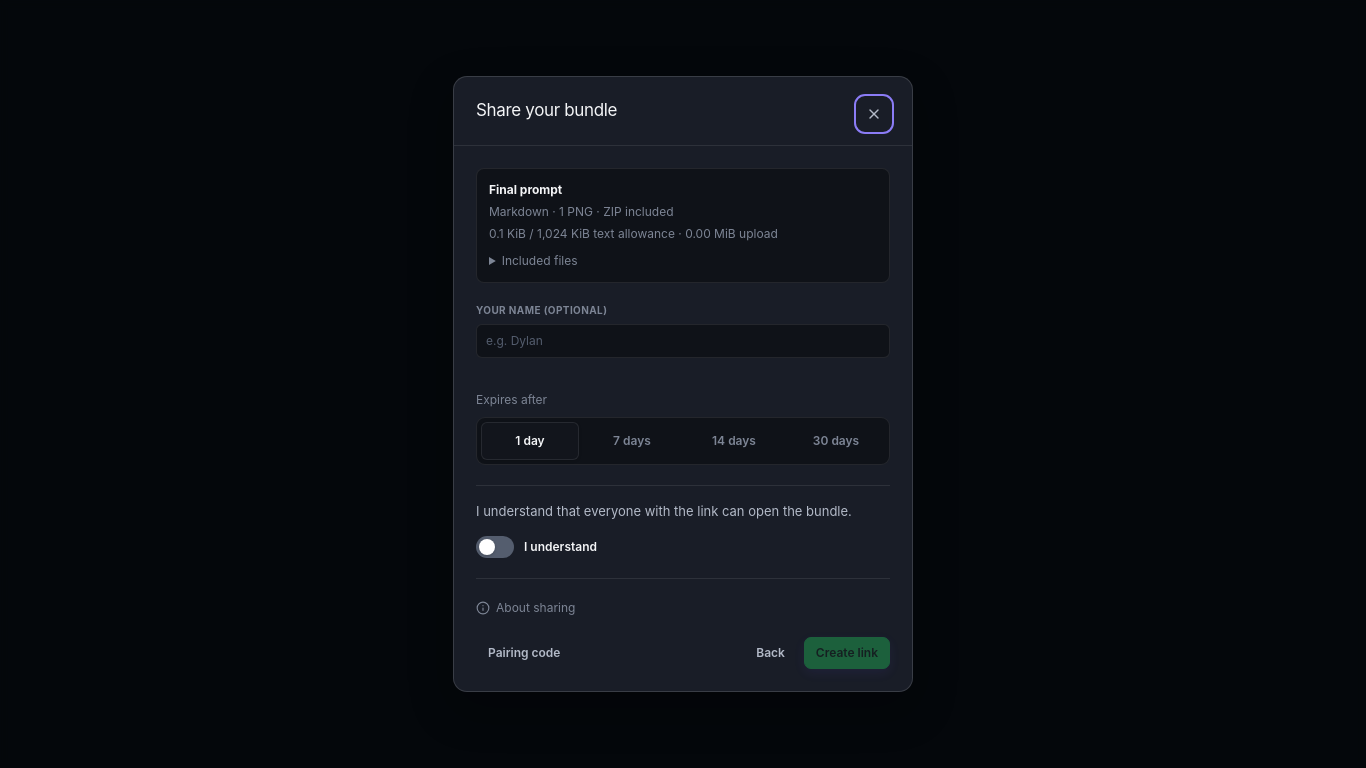
Test: HostedShareDialog › reports a failed name save without uploading, then lets the user retry
Type "Dylan" into the field labelled "Your name (optional)" at (683, 341), box [476,324,890,358]
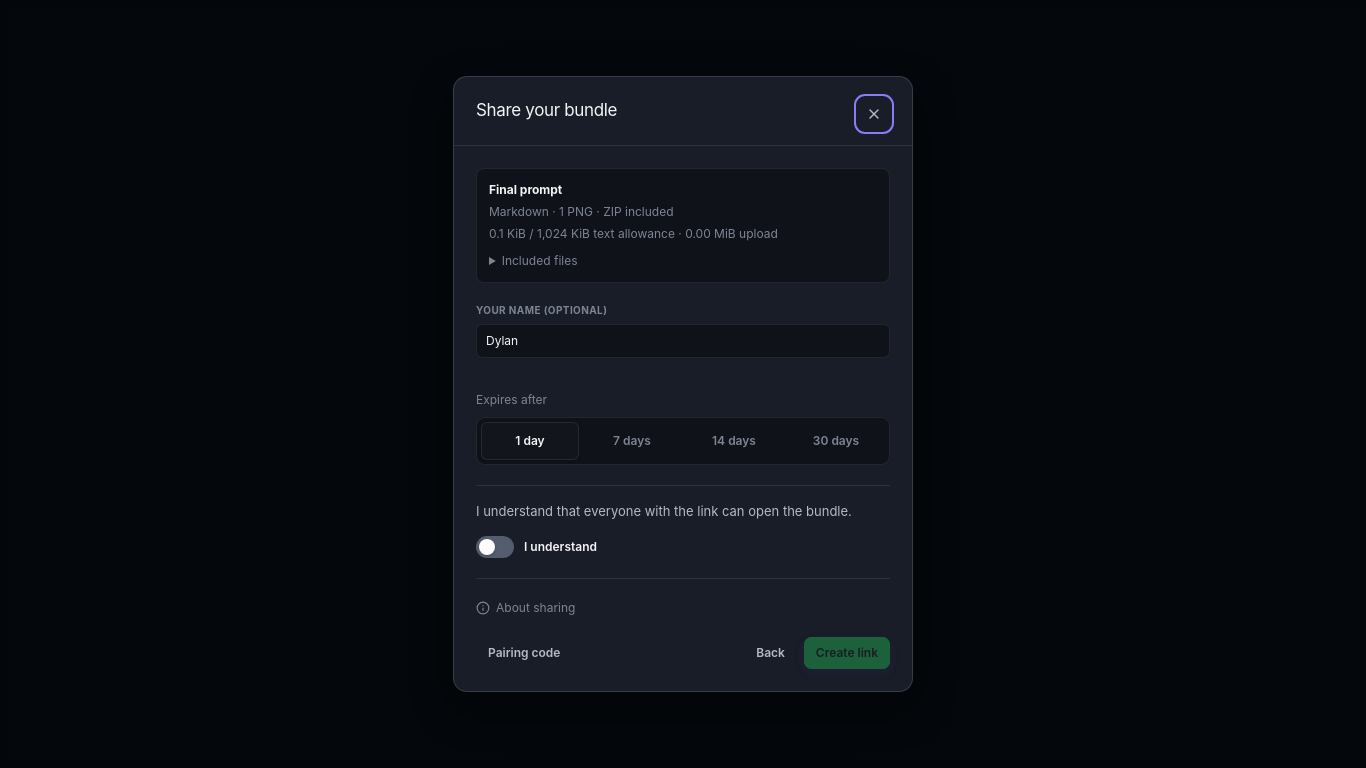
Click the switch labelled "I understand" at (536, 547), box [476,532,597,562]
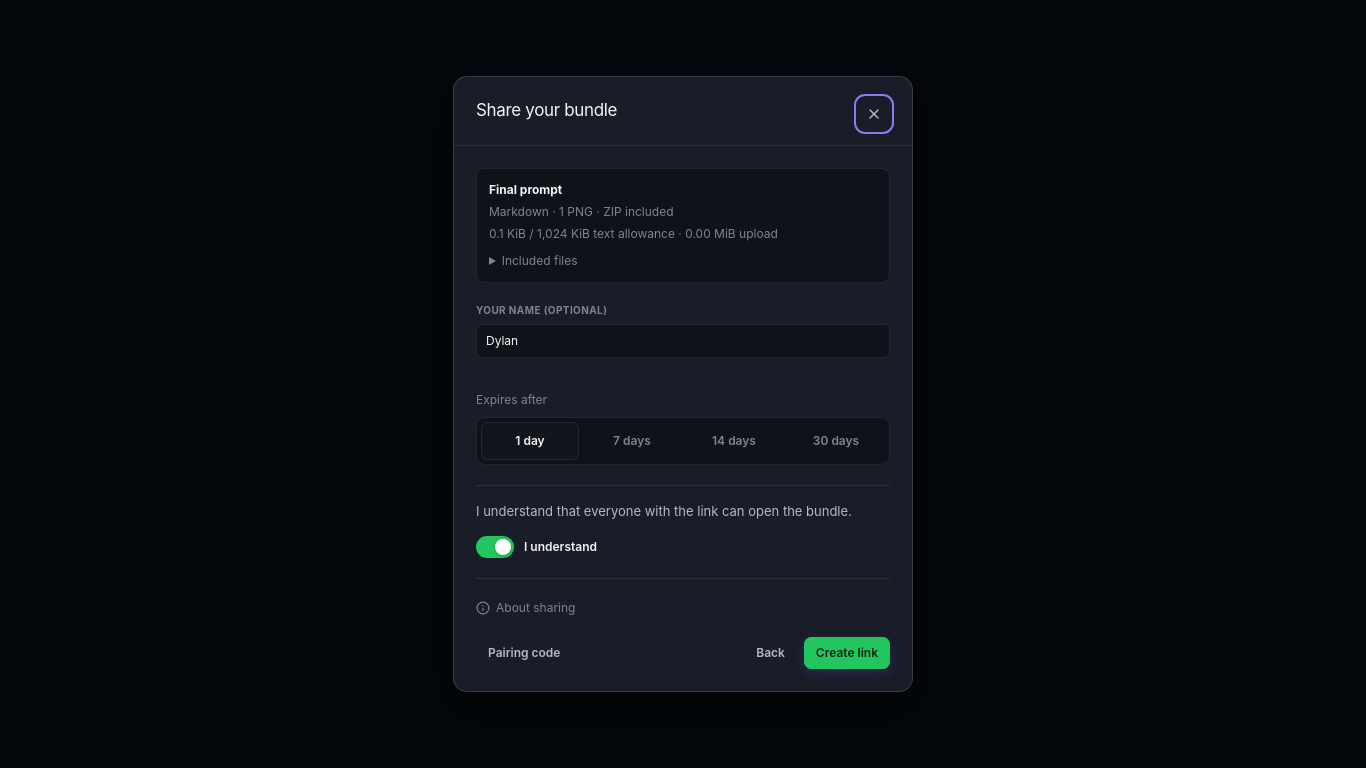
Click the button "Create link" at (847, 653), box [804,637,890,669]
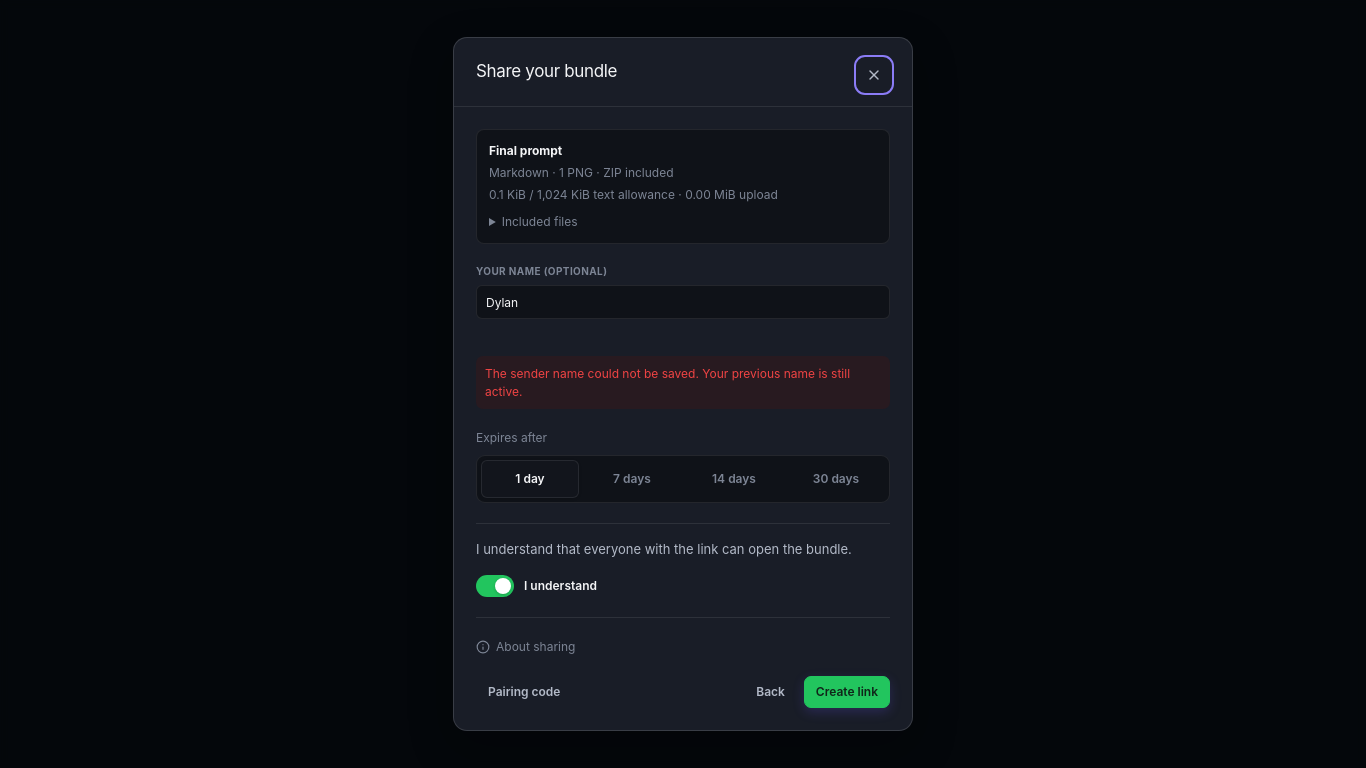
Check: the message "The sender name could not be saved. Your previous name is still active." is shown, box [476,356,890,409]
Click the button "Create link" at (847, 692), box [804,676,890,708]
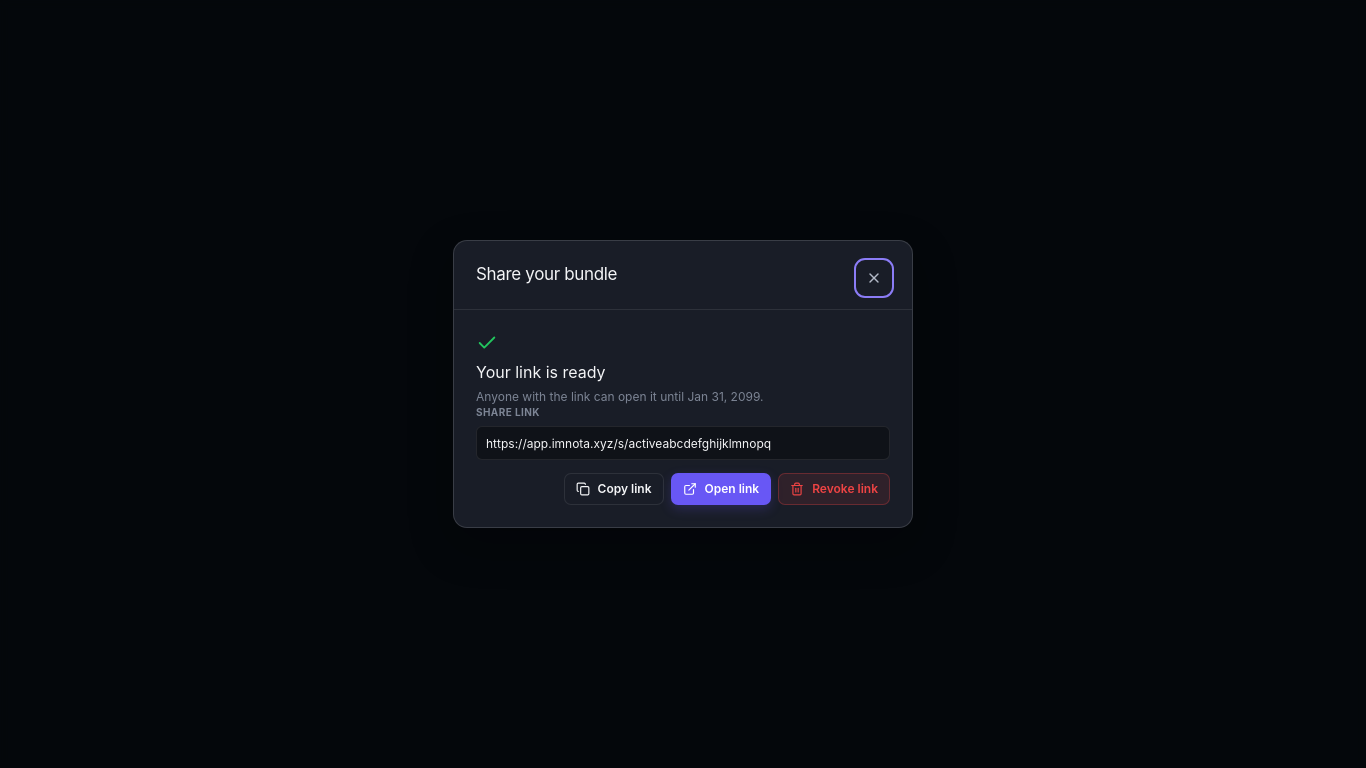
Check: the heading "Your link is ready" is shown, box [476,362,606,382]
